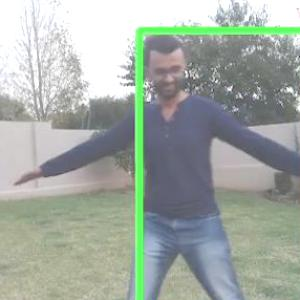land: (66, 40, 300, 299)
